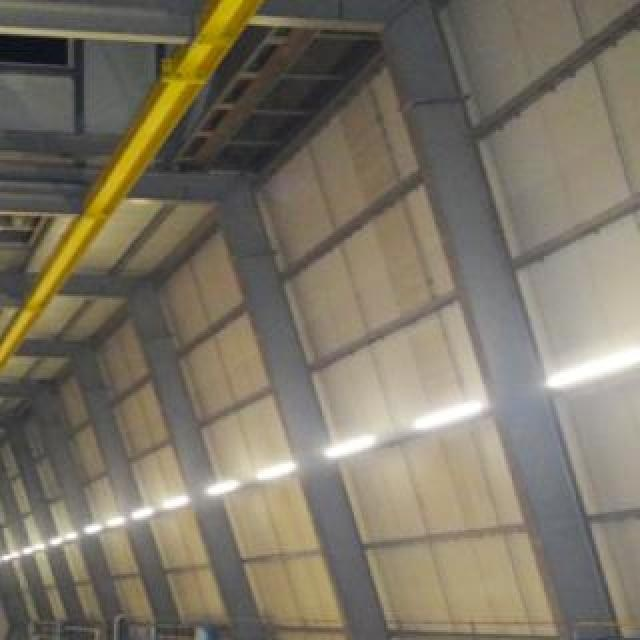fluorescent tube: (536, 318, 640, 406), (402, 384, 494, 438), (253, 442, 307, 485), (329, 427, 382, 465), (202, 467, 260, 500), (156, 482, 196, 520)
